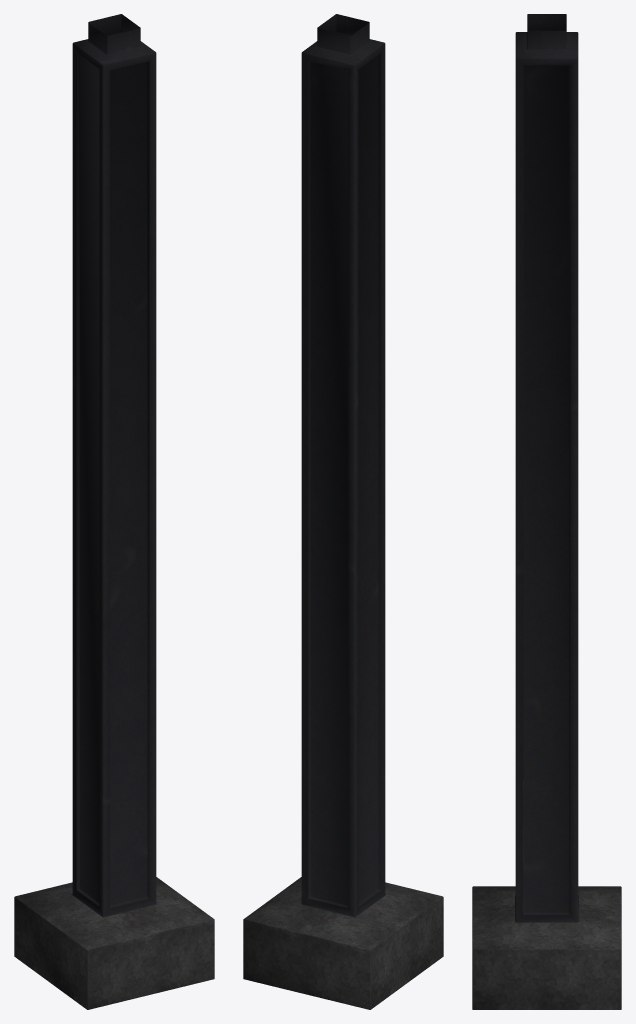
File: platform_base.gltf
The picture shows the model from 3 angles, left to right: view 1: azimuth 30°, elevation 25°; view 2: azimuth 150°, elevation 25°; view 3: azimuth 270°, elevation 25°; orthographic projection.
Visible parts, largest first — view 1: platform_base; view 2: platform_base; view 3: platform_base.
Boxes of the visible parts, box(x1,y1,x2,y2) form: platform_base: box(14, 14, 214, 1009); platform_base: box(243, 14, 443, 1009); platform_base: box(472, 14, 621, 1009).
Bounding box in the file's own units: 0.402 × 2.84 × 0.402.
1 material, 1 textured.
